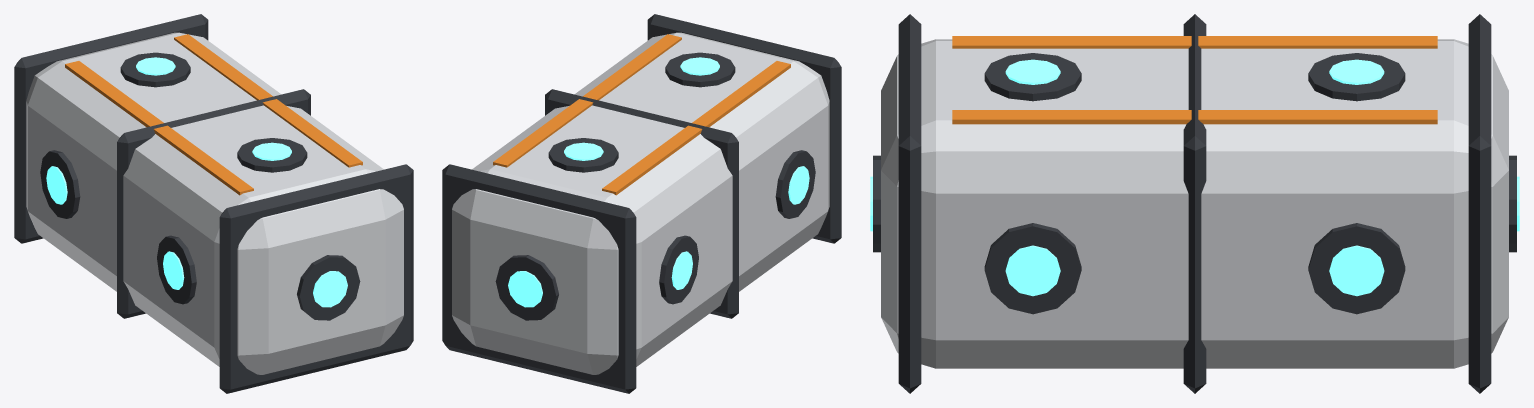
The model's file is corridor_1x2.glb.
3 views of the same model, side by side, from view 1: azimuth 30°, elevation 25°; view 2: azimuth 150°, elevation 25°; view 3: azimuth 270°, elevation 25° (orthographic). The views are drawn at different scales.
Parts seen in each view (by area): view 1: corridor_1x2; view 2: corridor_1x2; view 3: corridor_1x2.
Part boxes in pixels (x1,y1,x2,y2): corridor_1x2: (14, 14, 413, 393); corridor_1x2: (442, 14, 841, 393); corridor_1x2: (870, 14, 1519, 393).
Size of the model in its own units: 0.985 by 0.905 by 2.01.
